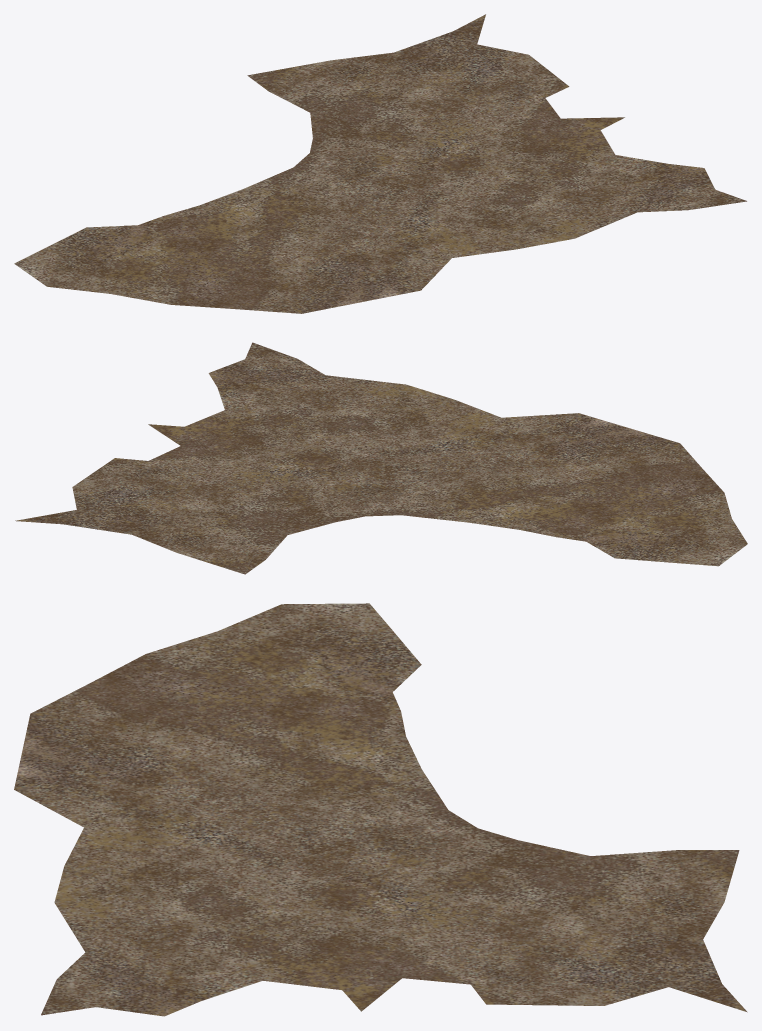
File: suelo_t_4.obj
3 renders of one model, top to bottom at view 1: azimuth 30°, elevation 25°; view 2: azimuth 150°, elevation 25°; view 3: azimuth 270°, elevation 25°, orthographic. The views are drawn at different scales.
Parts seen in each view (by area): view 1: suelo_t_4; view 2: suelo_t_4; view 3: suelo_t_4.
Boxes of the visible parts, x1,y1,x2,y2 form: suelo_t_4: [14, 14, 746, 313]; suelo_t_4: [15, 342, 747, 574]; suelo_t_4: [14, 603, 747, 1016].
Size of the model in its own units: 413 by 0 by 310.
Materials: 1 (1 with a texture image).
